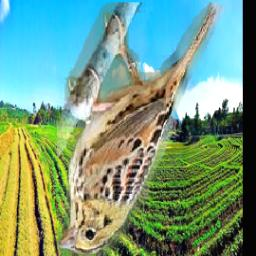Sparrow: (56, 2, 226, 256)
